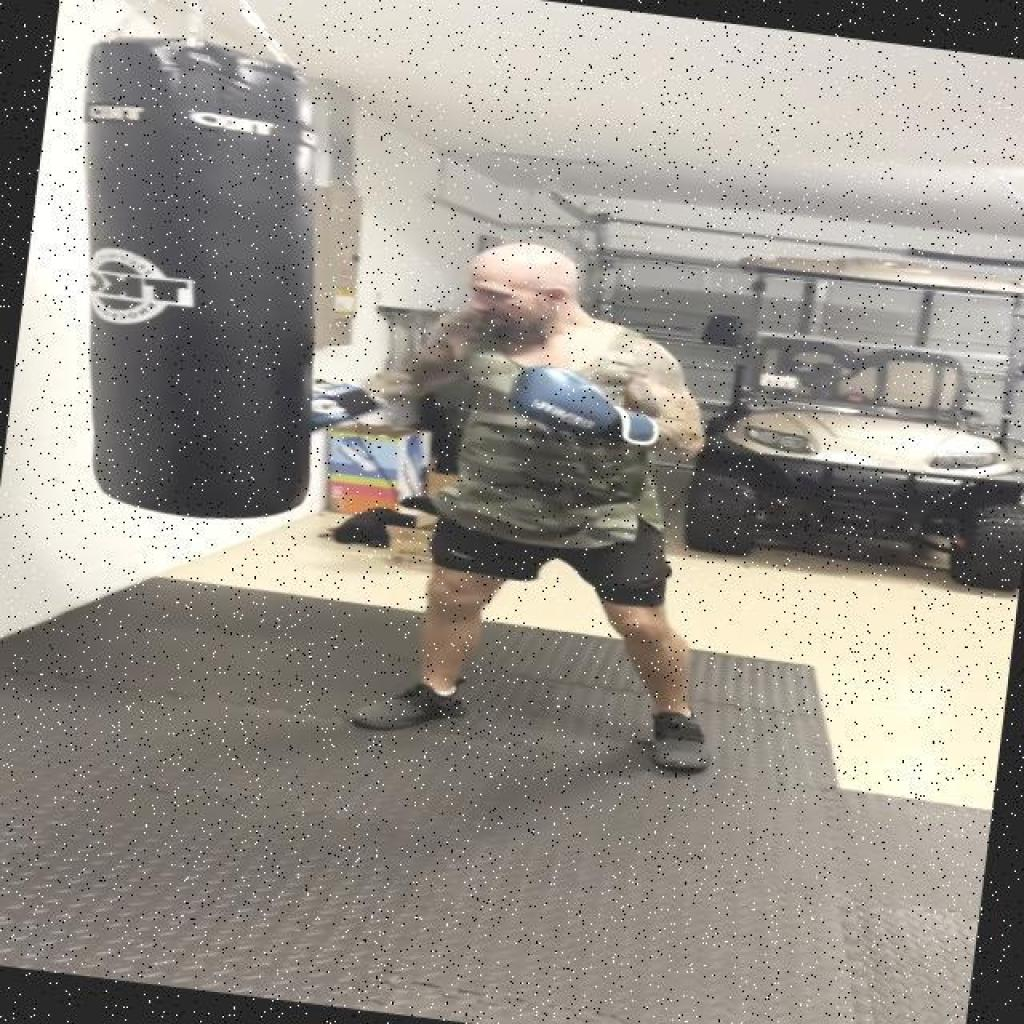bag: (58, 21, 328, 550)
hook: (237, 200, 710, 498)
